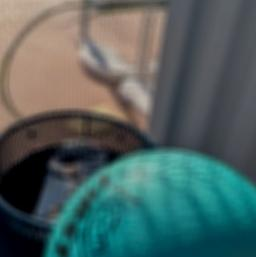algae: (36, 143, 256, 257)
